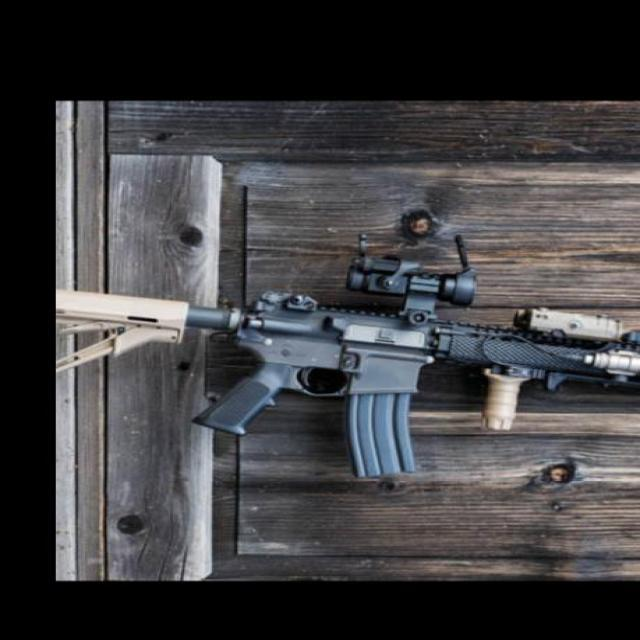weapon: (55, 231, 640, 477)
